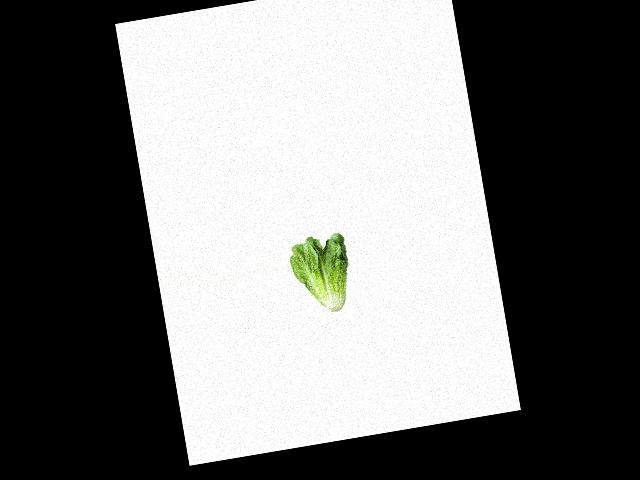lettuce: (287, 231, 357, 319)
